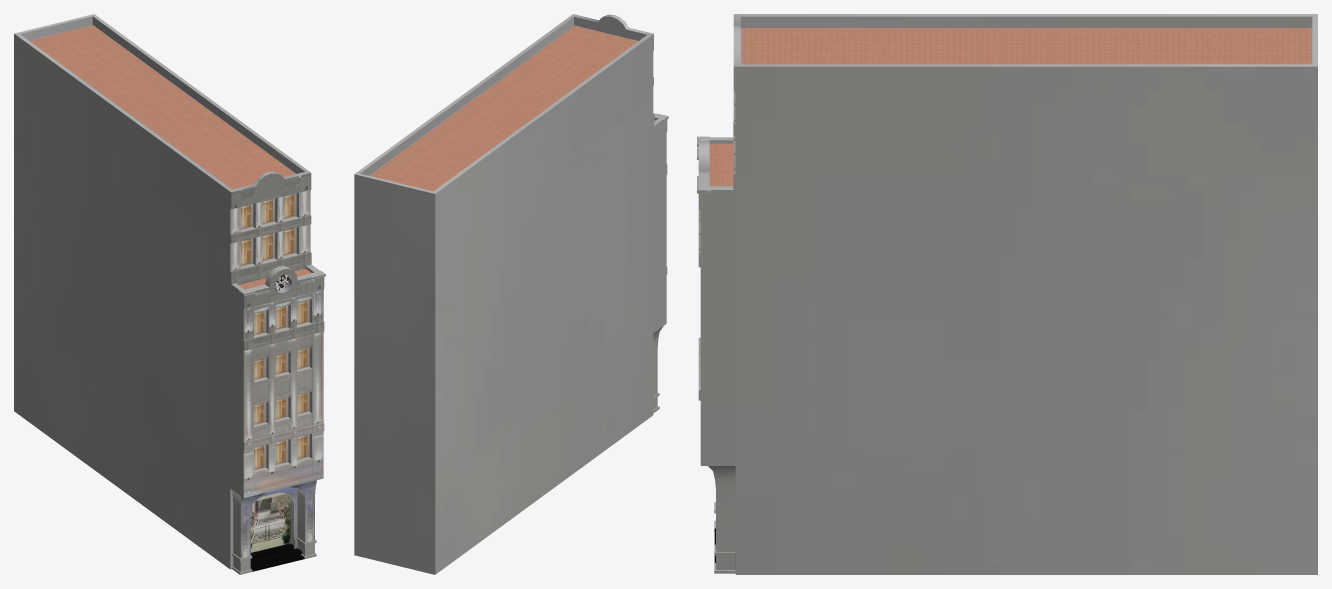
The picture shows the model from 3 angles, left to right: view 1: azimuth 30°, elevation 25°; view 2: azimuth 150°, elevation 25°; view 3: azimuth 270°, elevation 25°; orthographic projection. The views are drawn at different scales.
Visible parts, largest first — view 1: HN084___Damsels_Hanoi_Boutique_Hotel; view 2: HN084___Damsels_Hanoi_Boutique_Hotel; view 3: HN084___Damsels_Hanoi_Boutique_Hotel.
Boxes of the visible parts, x1,y1,x2,y2 form: HN084___Damsels_Hanoi_Boutique_Hotel: (14,14,325,574); HN084___Damsels_Hanoi_Boutique_Hotel: (354,14,668,574); HN084___Damsels_Hanoi_Boutique_Hotel: (697,14,1317,574).
Bounding box in the file's own units: 5.47 × 24.65 × 26.64.
Materials: 1 (1 with a texture image).
